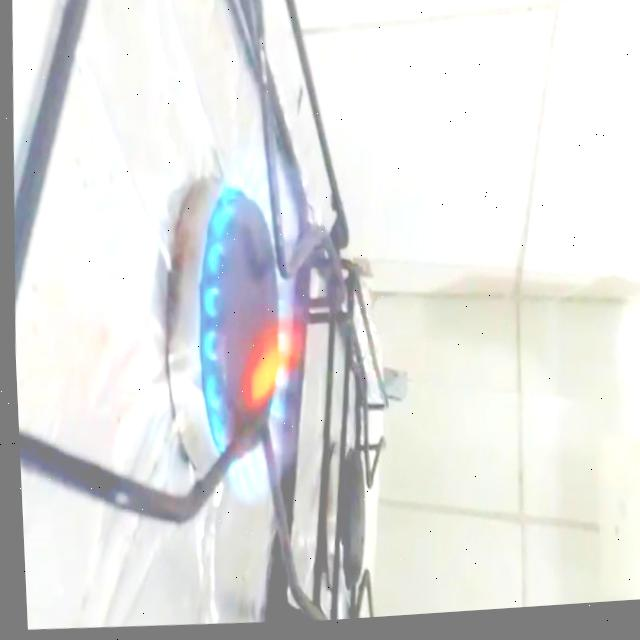Fire: (178, 142, 321, 519)
